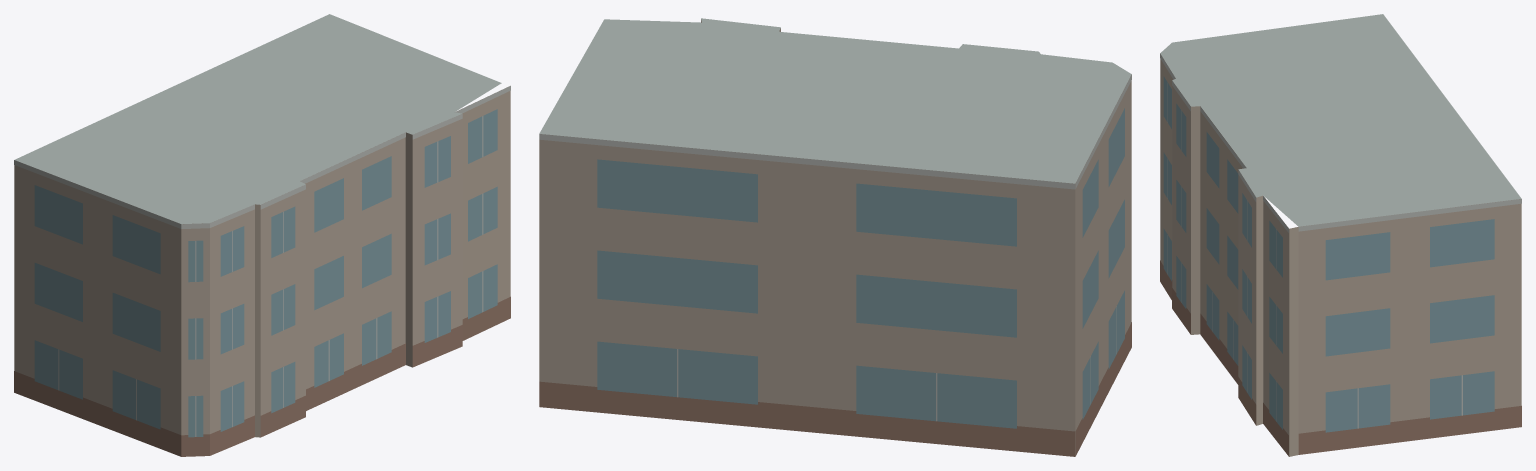
The model's file is survey-upis-32772893.glb.
3 views of the same model, side by side, from view 1: azimuth 30°, elevation 25°; view 2: azimuth 150°, elevation 25°; view 3: azimuth 270°, elevation 25° (orthographic). The views are drawn at different scales.
Parts seen in each view (by area): view 1: survey-upis-32772893.tmp; view 2: survey-upis-32772893.tmp; view 3: survey-upis-32772893.tmp.
Boxes of the visible parts, x1=… form: survey-upis-32772893.tmp: x1=14, y1=14, x2=510, y2=456; survey-upis-32772893.tmp: x1=539, y1=18, x2=1131, y2=456; survey-upis-32772893.tmp: x1=1160, y1=14, x2=1521, y2=456.
Size of the model in its own units: 23 by 11.4 by 16.38.
